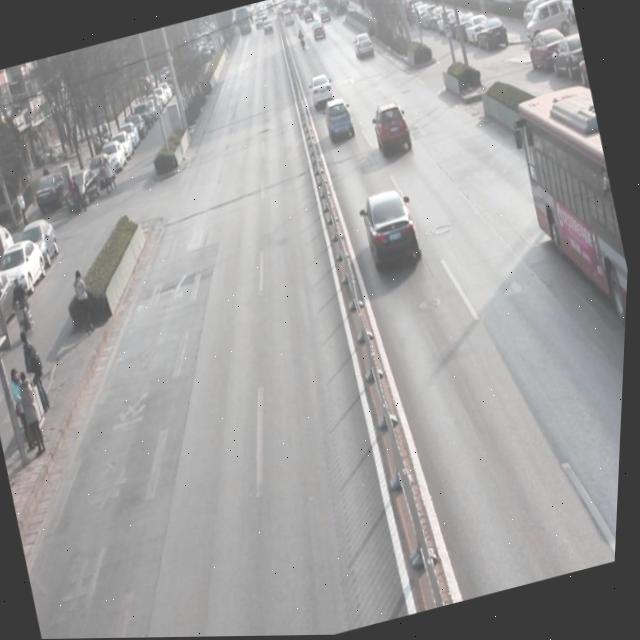car: (357, 186, 429, 283), (368, 101, 420, 165), (322, 96, 362, 152), (307, 72, 339, 114), (352, 34, 380, 64)
van: (504, 81, 637, 349)
